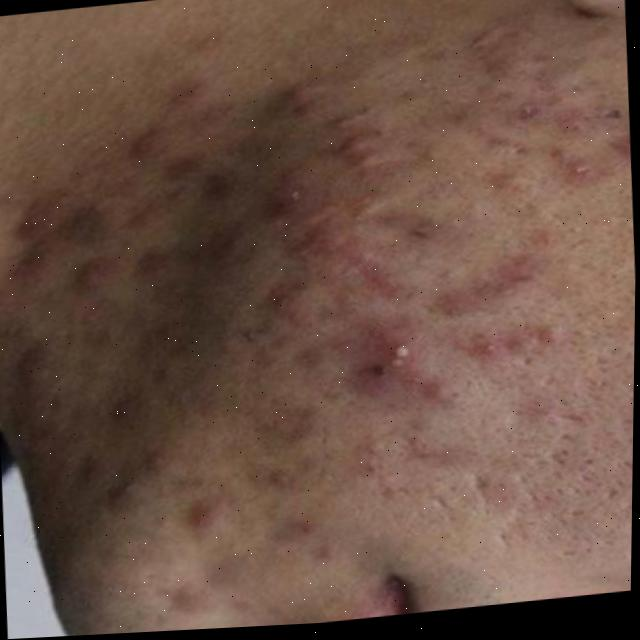Acne: (0, 11, 639, 629)
